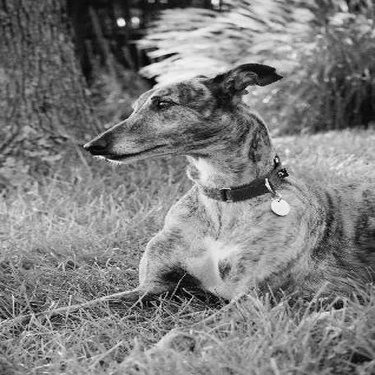dog: (6, 50, 369, 365)
